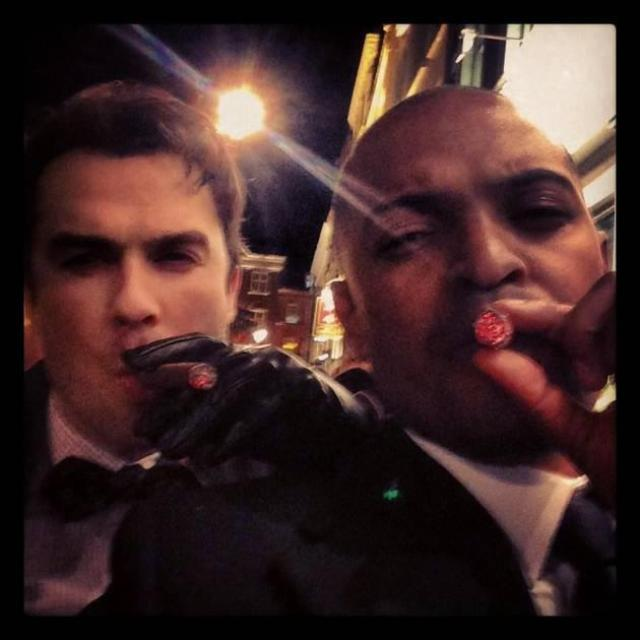cigarette: (123, 355, 219, 391), (461, 296, 513, 352)
